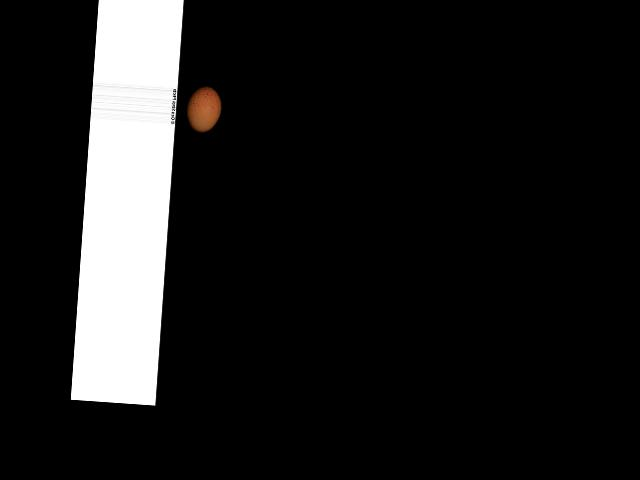egg: (184, 85, 222, 133)
